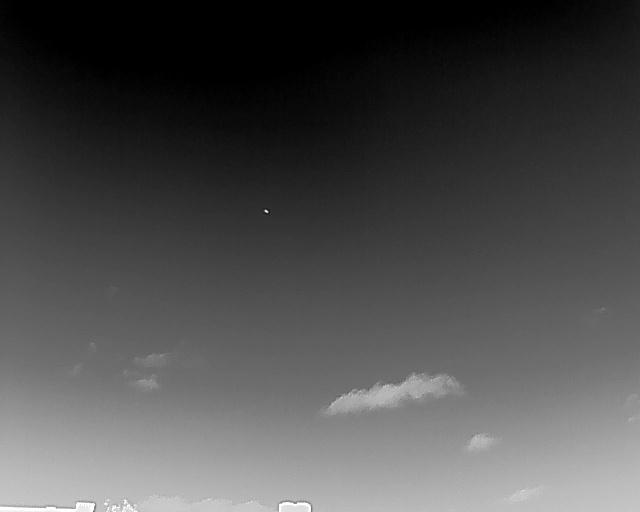fpv-drone: (262, 208, 270, 214)
